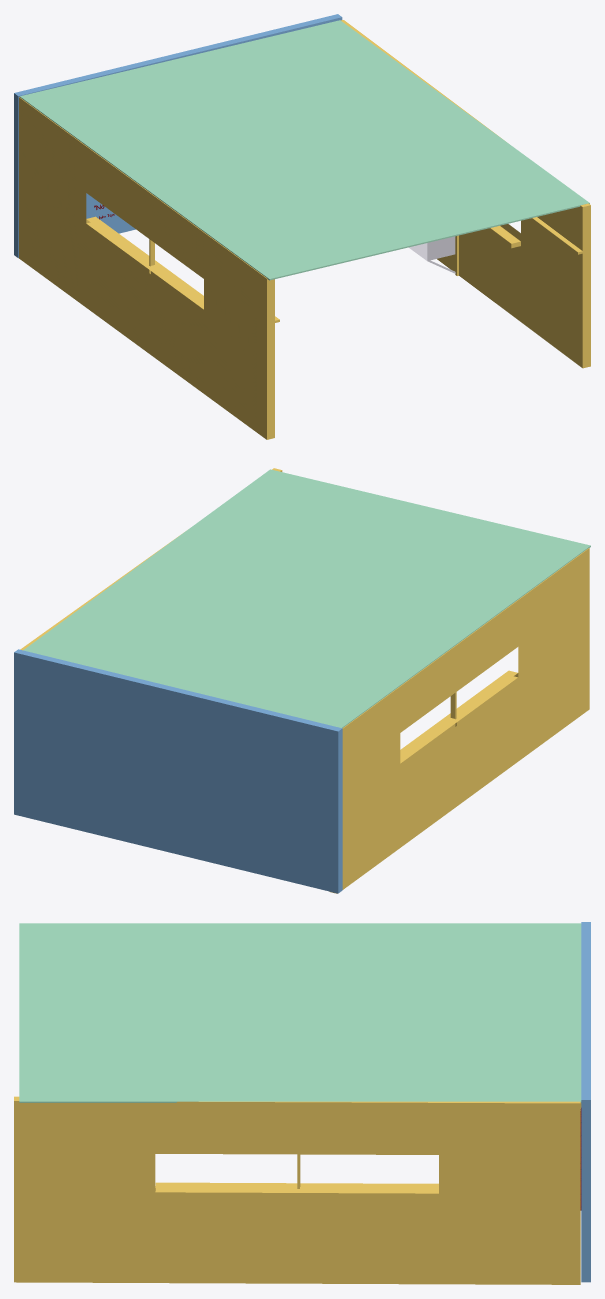
File: physicsRoomNov21.glb
3 renders of one model, top to bottom at view 1: azimuth 30°, elevation 25°; view 2: azimuth 150°, elevation 25°; view 3: azimuth 270°, elevation 25°, orthographic. The views are drawn at different scales.
Visible parts, largest first — view 1: ceiling.002, ceiling.005, ceiling.007, Cube.003; view 2: ceiling.002, ceiling.007, ceiling.005; view 3: ceiling.002, ceiling.005, ceiling.007.
Part boxes in pixels (x1,y1,x2,y2): ceiling.002: [19, 20, 589, 280]; ceiling.005: [19, 20, 590, 439]; ceiling.007: [14, 14, 342, 257]; Cube.003: [408, 236, 455, 273]; ceiling.002: [23, 469, 590, 728]; ceiling.007: [14, 649, 342, 893]; ceiling.005: [20, 468, 589, 893]; ceiling.002: [19, 923, 581, 1102]; ceiling.005: [14, 1096, 581, 1284]; ceiling.007: [581, 922, 590, 1282].
Size of the model in its own units: 21.83 by 10.52 by 29.83.
